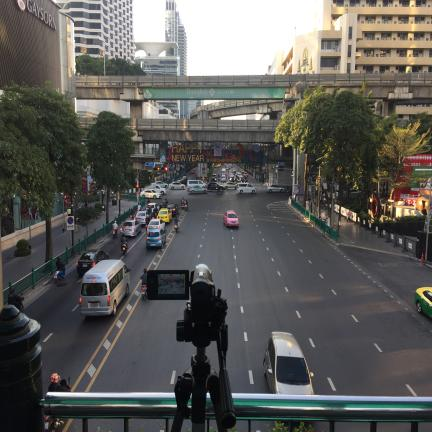car: (76, 249, 109, 277), (146, 228, 166, 249), (120, 219, 141, 236), (147, 218, 165, 231), (135, 209, 147, 225), (167, 203, 179, 217), (147, 202, 158, 215), (348, 188, 359, 194), (344, 191, 347, 194), (153, 220, 154, 220)
human: (8, 286, 24, 310), (48, 373, 65, 392), (55, 256, 65, 277), (140, 268, 147, 286), (121, 234, 128, 250), (74, 216, 80, 232), (112, 220, 118, 232), (130, 208, 135, 219), (174, 214, 179, 225), (181, 197, 185, 206), (67, 208, 71, 216), (137, 203, 141, 211)
motorbike: (8, 293, 24, 312), (45, 416, 64, 432), (60, 377, 71, 391), (54, 269, 65, 283), (141, 285, 147, 300), (121, 243, 127, 255), (174, 223, 179, 232), (163, 200, 168, 208), (113, 229, 117, 238), (184, 203, 188, 211), (181, 203, 185, 210)
taxi: (223, 211, 239, 227), (157, 208, 172, 223)
van: (80, 260, 130, 316), (187, 180, 205, 187)
